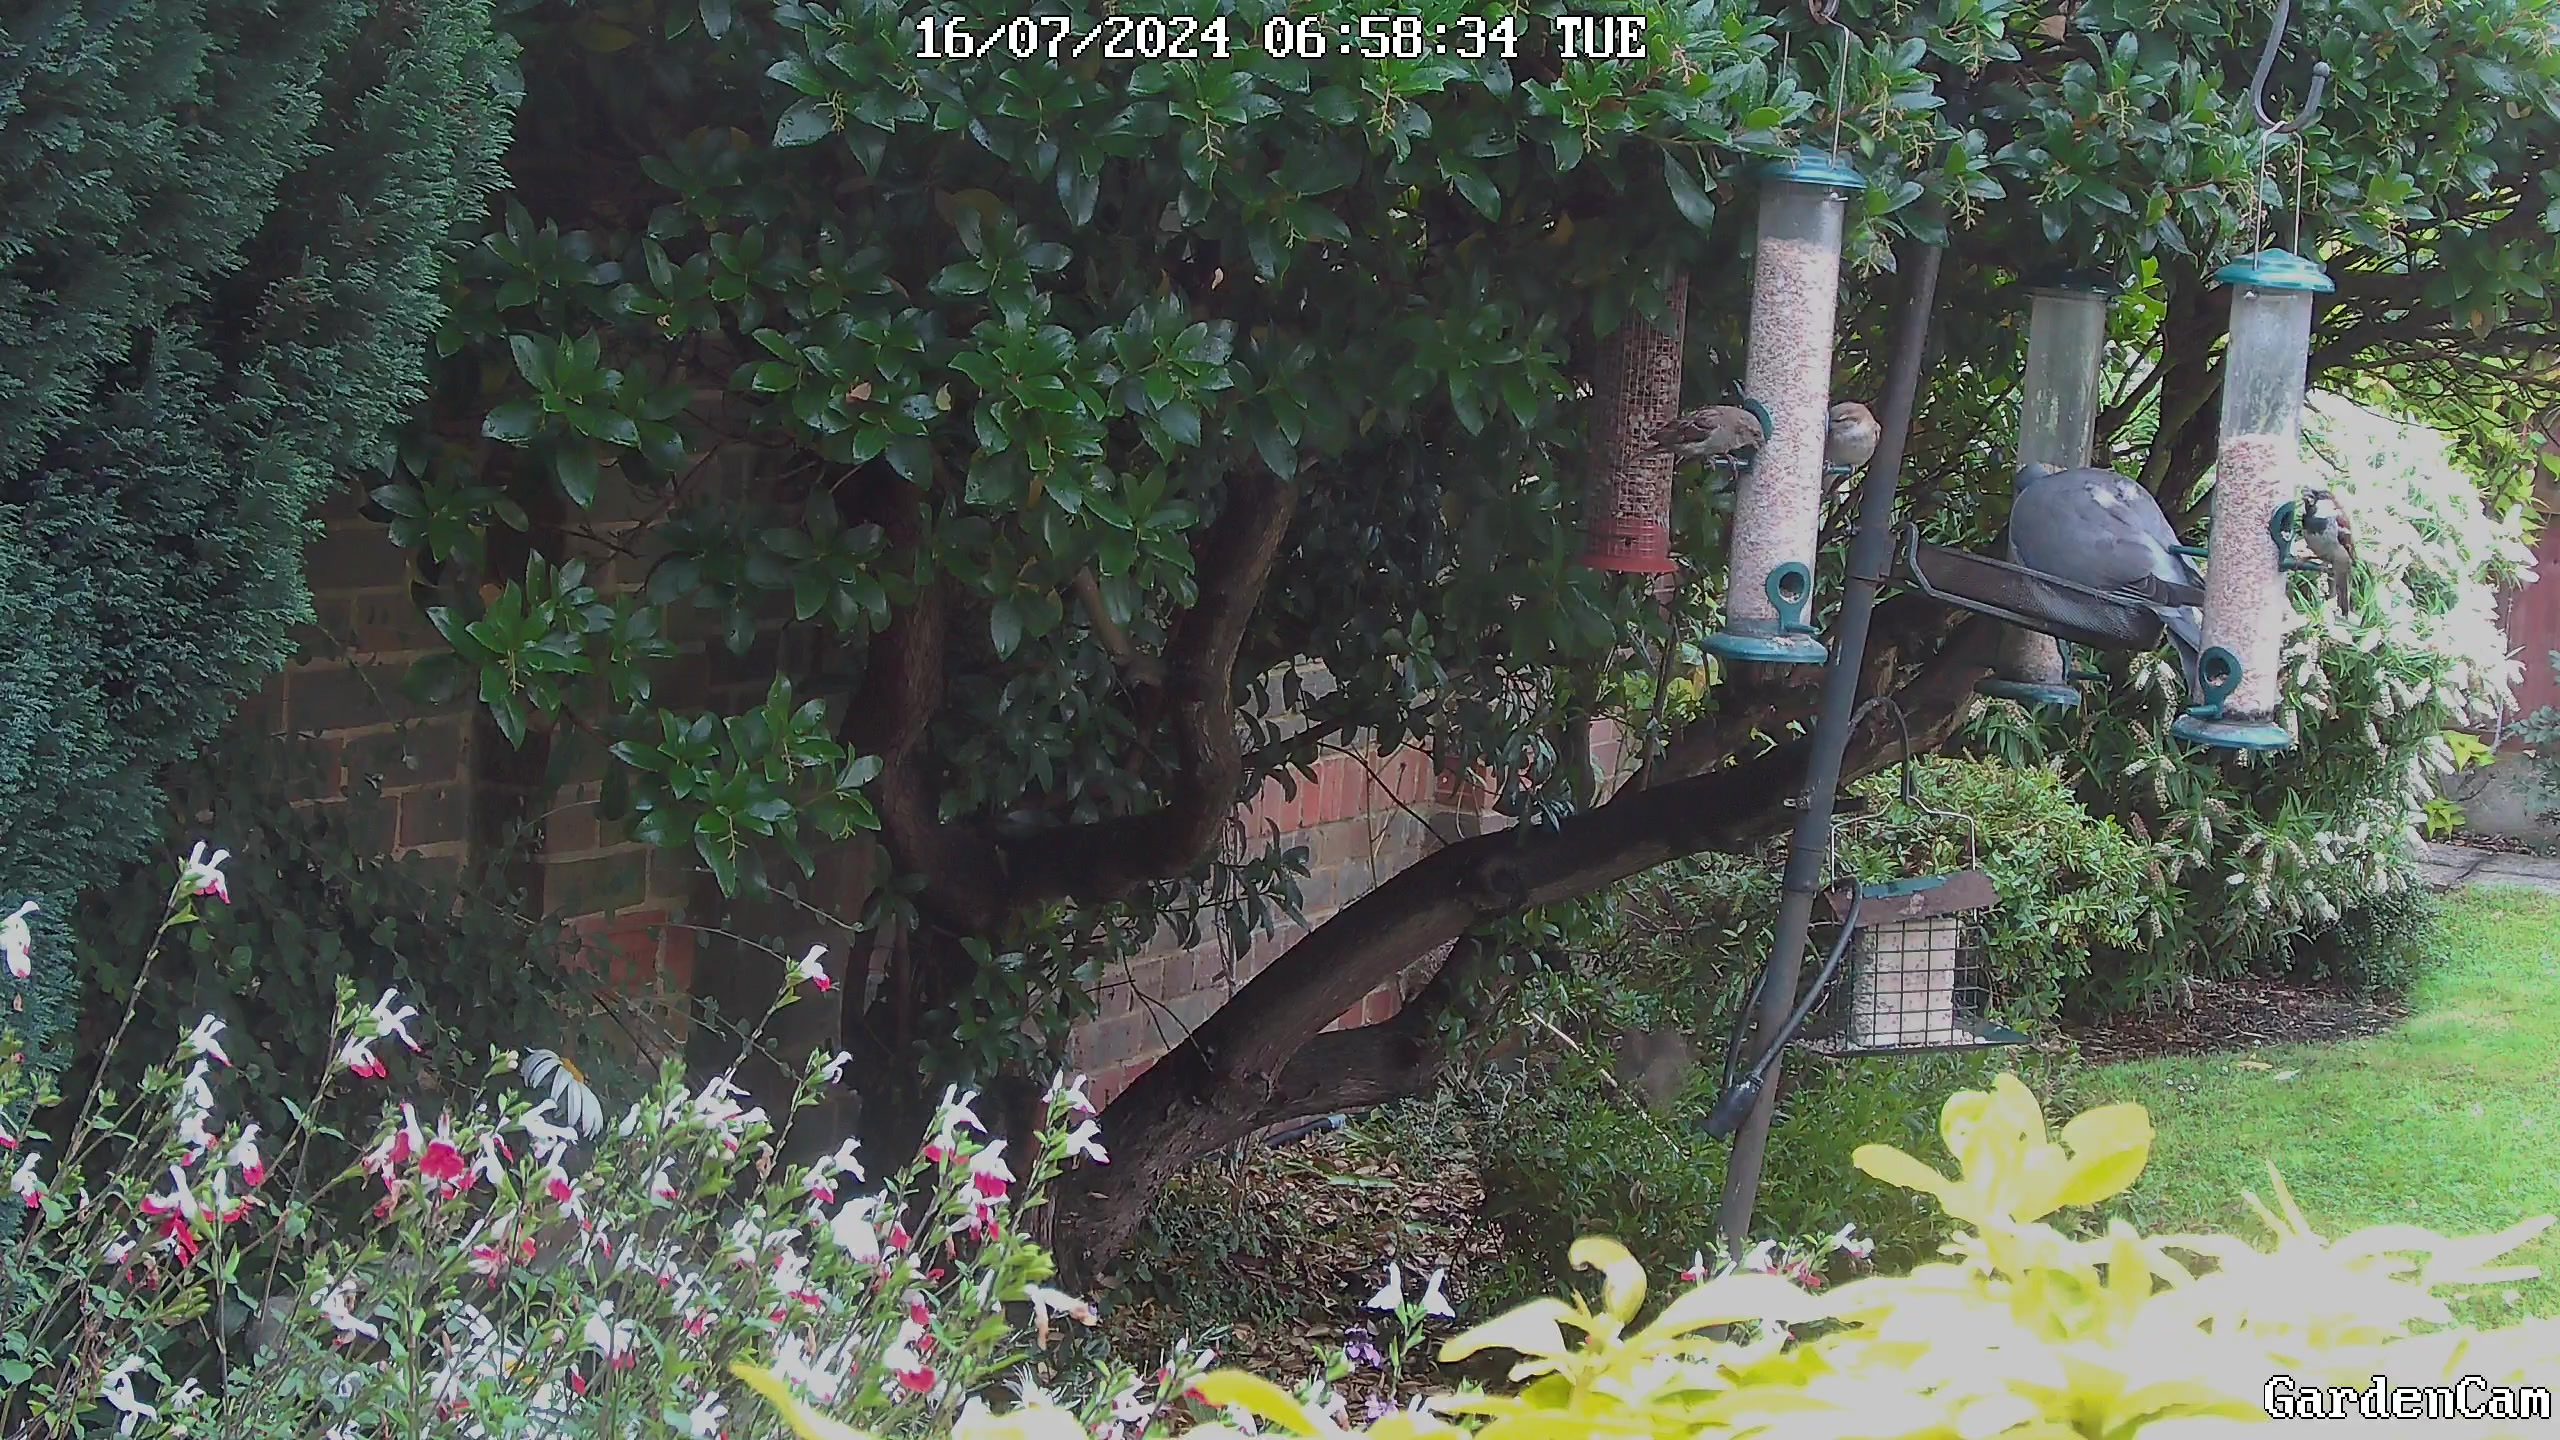House_Sparrow: (1616, 399, 1776, 484), (1813, 389, 1880, 512)
Wood_Pigeon: (1959, 427, 2256, 700)
